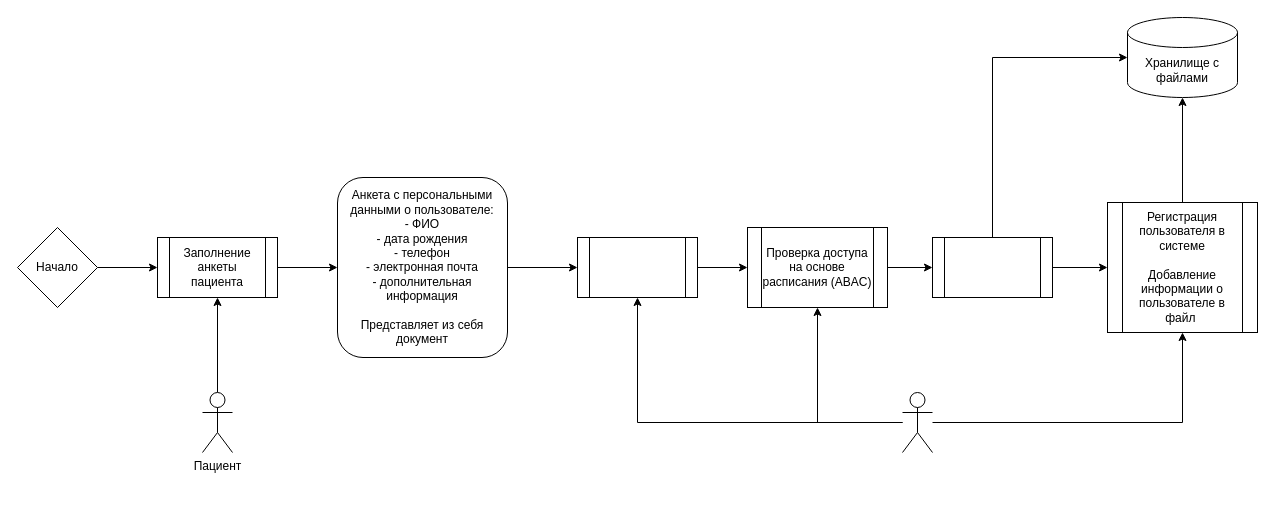
This 1275x506 diagram has some shape labels left out. Here are the shapes that lost their labels. From the top down, the box of each, then its label:
(576, 236, 698, 298): Проверка данных
(932, 236, 1052, 298): Расшифровка хранилища
(902, 392, 932, 452): Сотрудник ресепшена
